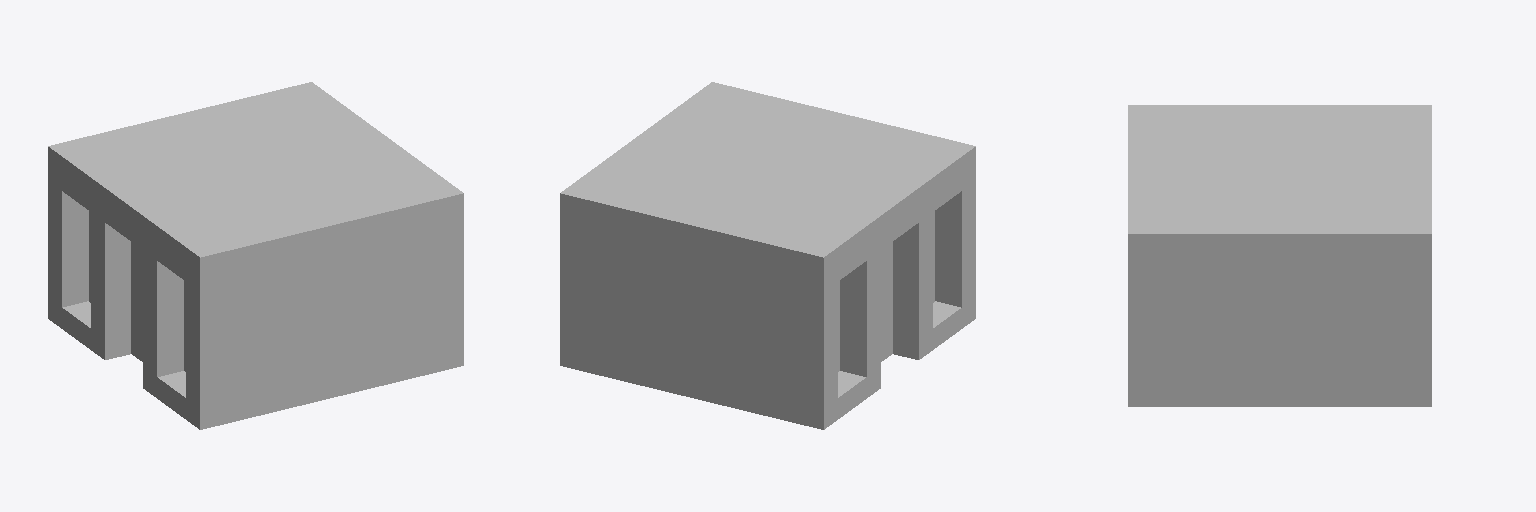
3 views of the same model, side by side, from view 1: azimuth 30°, elevation 25°; view 2: azimuth 150°, elevation 25°; view 3: azimuth 270°, elevation 25° (orthographic).
Visible parts, largest first — view 1: G-__556041_G-__556041_Brick, G-__556041_G-__556041_Glass; view 2: G-__556041_G-__556041_Brick, G-__556041_G-__556041_Glass; view 3: G-__556041_G-__556041_Brick.
Part boxes in pixels (bbox=[...]): G-__556041_G-__556041_Brick: bbox=[48, 82, 463, 429]; G-__556041_G-__556041_Glass: bbox=[89, 211, 185, 371]; G-__556041_G-__556041_Brick: bbox=[560, 82, 975, 429]; G-__556041_G-__556041_Glass: bbox=[838, 211, 934, 371]; G-__556041_G-__556041_Brick: bbox=[1128, 105, 1431, 406].
Bounding box in the file's own units: 1 × 0.625 × 1.